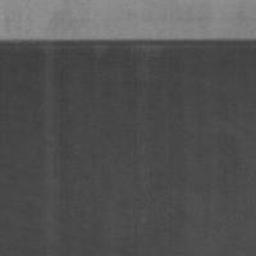Welding line: (0, 38, 256, 45)
